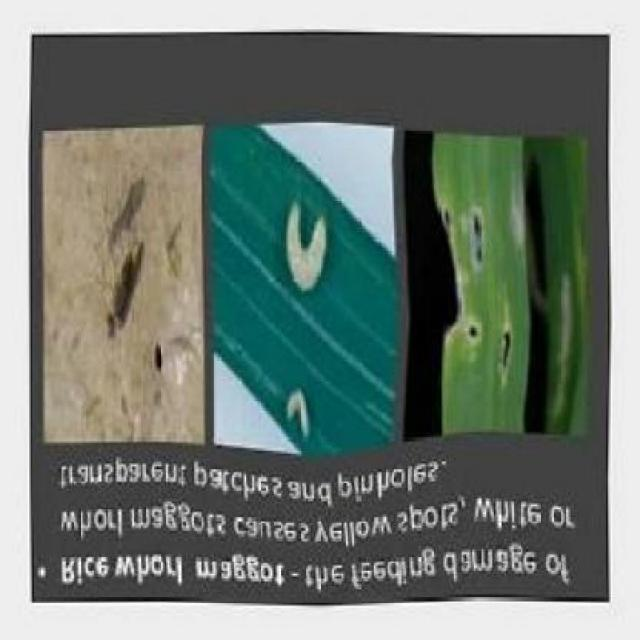whorl-maggot: (280, 195, 332, 300), (280, 382, 315, 440)
